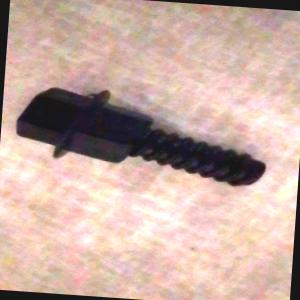parafuso: (7, 81, 273, 188)
